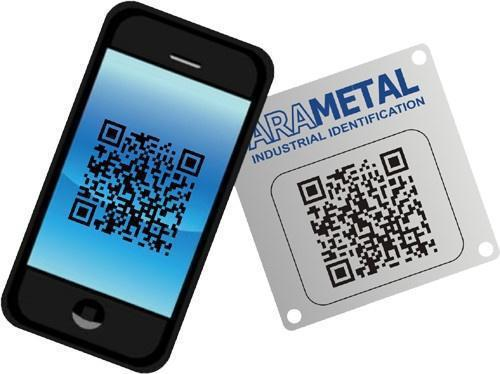qr_code: (296, 147, 439, 288), (68, 118, 205, 256)
